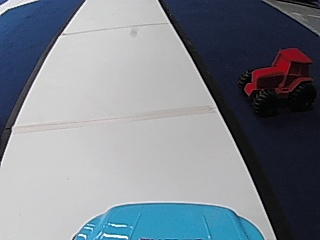tractor: (235, 45, 317, 117)
